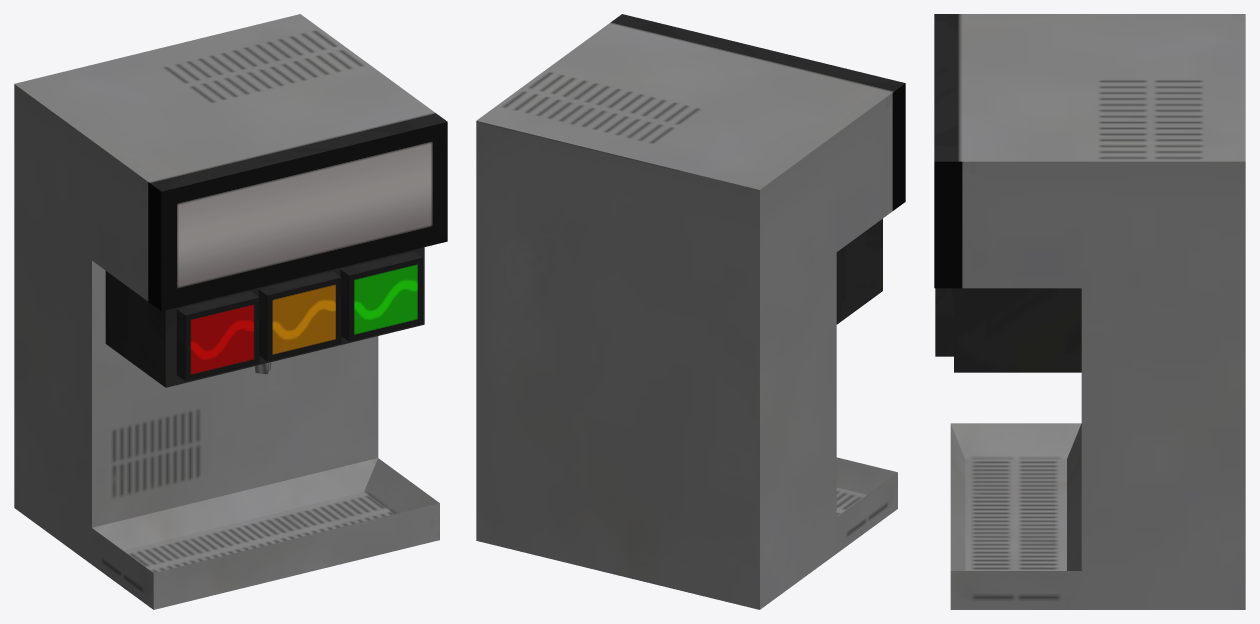
Rendered from DrinkMachine.fbx.
3 views of the same model, side by side, from view 1: azimuth 30°, elevation 25°; view 2: azimuth 150°, elevation 25°; view 3: azimuth 270°, elevation 25° (orthographic). The views are drawn at different scales.
Visible parts, largest first — view 1: DrinkMachine, BlackKulaButton, YellowKulaButton, WhiteKulaButton; view 2: DrinkMachine; view 3: DrinkMachine, WhiteKulaButton.
Boxes of the visible parts, left/top/right/bottom form: DrinkMachine: left=14, top=14, right=447, bottom=609; BlackKulaButton: left=176, top=291, right=259, bottom=381; YellowKulaButton: left=258, top=271, right=341, bottom=361; WhiteKulaButton: left=340, top=251, right=422, bottom=341; DrinkMachine: left=476, top=14, right=905, bottom=609; DrinkMachine: left=934, top=14, right=1245, bottom=609; WhiteKulaButton: left=935, top=288, right=953, bottom=356.
Size of the model in its own units: 101 by 143 by 89.86.
